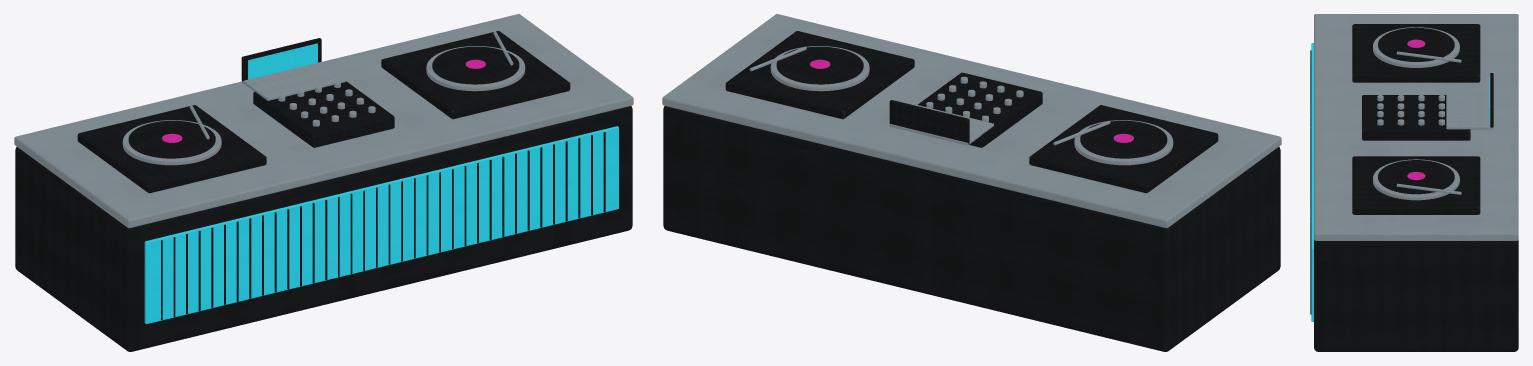
The picture shows the model from 3 angles, left to right: view 1: azimuth 30°, elevation 25°; view 2: azimuth 150°, elevation 25°; view 3: azimuth 270°, elevation 25°; orthographic projection. The views are drawn at different scales.
Parts seen in each view (by area): view 1: dj; view 2: dj; view 3: dj.
Part boxes in pixels (x1=…): dj: x1=14, y1=14, x2=633, y2=351; dj: x1=662, y1=14, x2=1281, y2=351; dj: x1=1310, y1=14, x2=1518, y2=351.
Size of the model in its own units: 4 by 1.3 by 1.6.
1 material, 1 textured.
